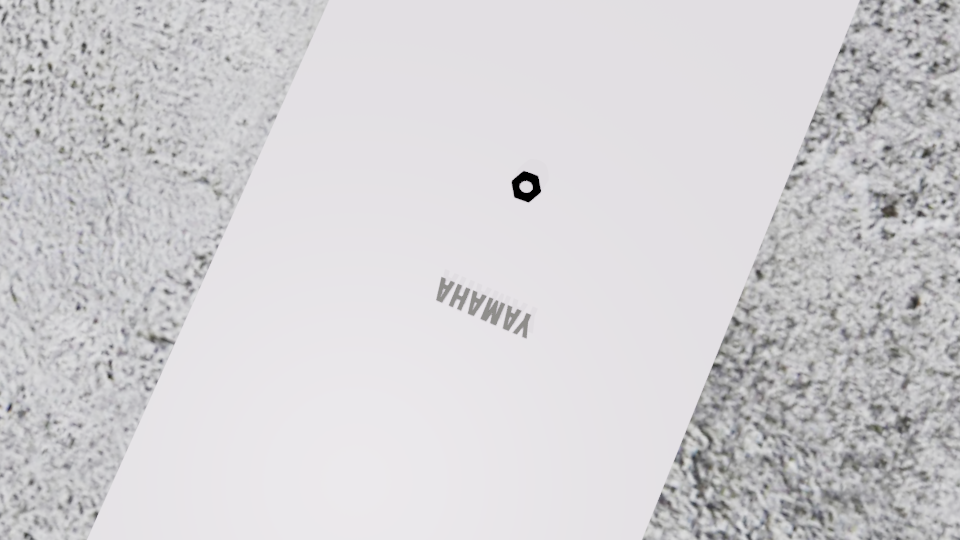yamaha_letters: (435, 276, 531, 339)
